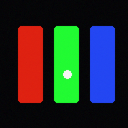0 point: (63, 70, 71, 78)
